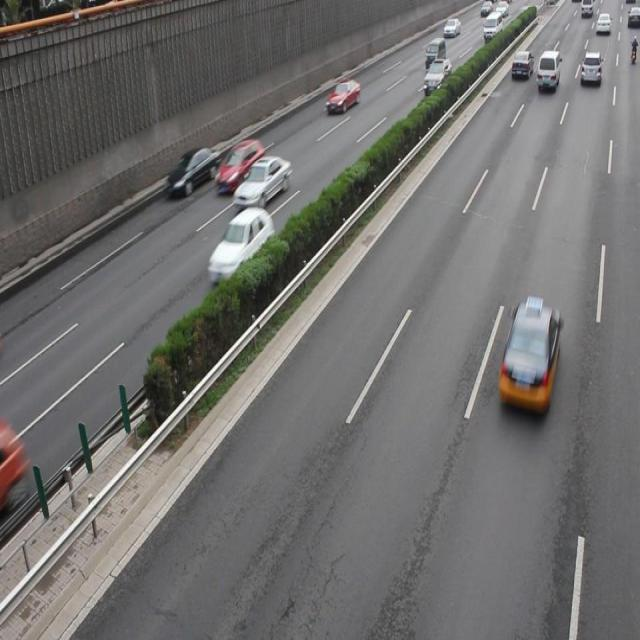car: (495, 297, 560, 415), (207, 206, 274, 287), (232, 153, 290, 208), (164, 144, 218, 200), (213, 136, 264, 194)
